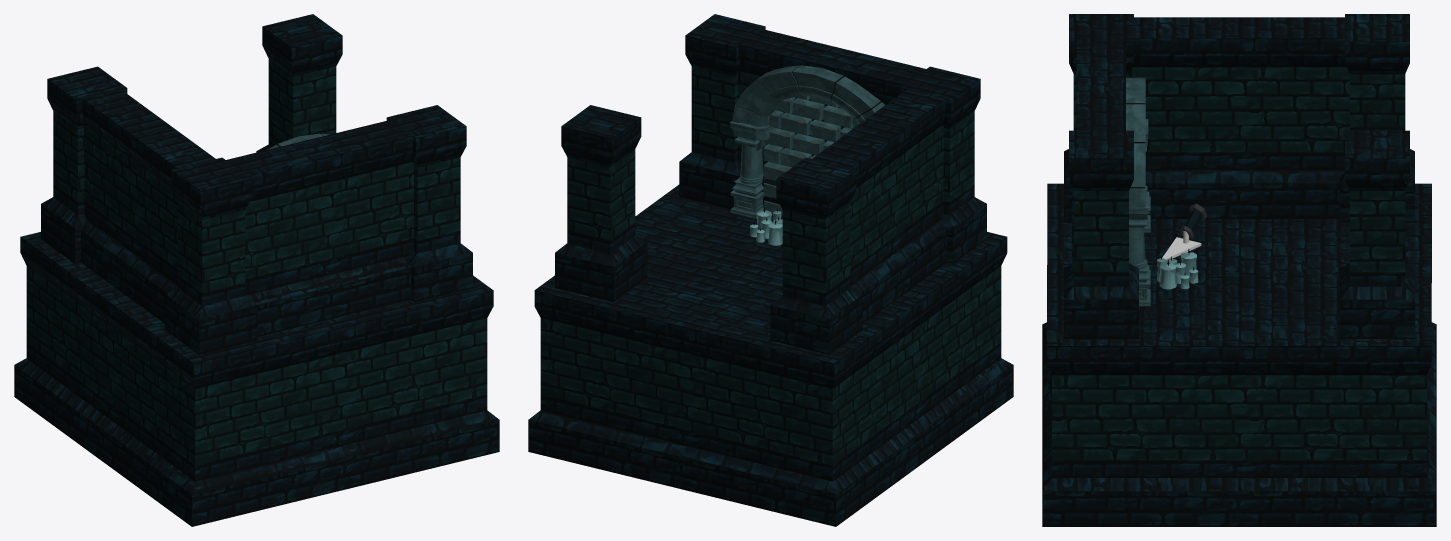
File: tile-corner-l-brick.glb
3 views of the same model, side by side, from view 1: azimuth 30°, elevation 25°; view 2: azimuth 150°, elevation 25°; view 3: azimuth 270°, elevation 25° (orthographic). The views are drawn at different scales.
Visible parts, largest first — view 1: mergedBlocks(Clone); view 2: mergedBlocks(Clone); view 3: mergedBlocks(Clone).
Boxes of the visible parts, x1=… form: mergedBlocks(Clone): x1=14, y1=14, x2=499, y2=526; mergedBlocks(Clone): x1=528, y1=14, x2=1013, y2=526; mergedBlocks(Clone): x1=1042, y1=14, x2=1436, y2=526.
Size of the model in its own units: 2 by 2 by 2.
12 materials, 6 textured.
